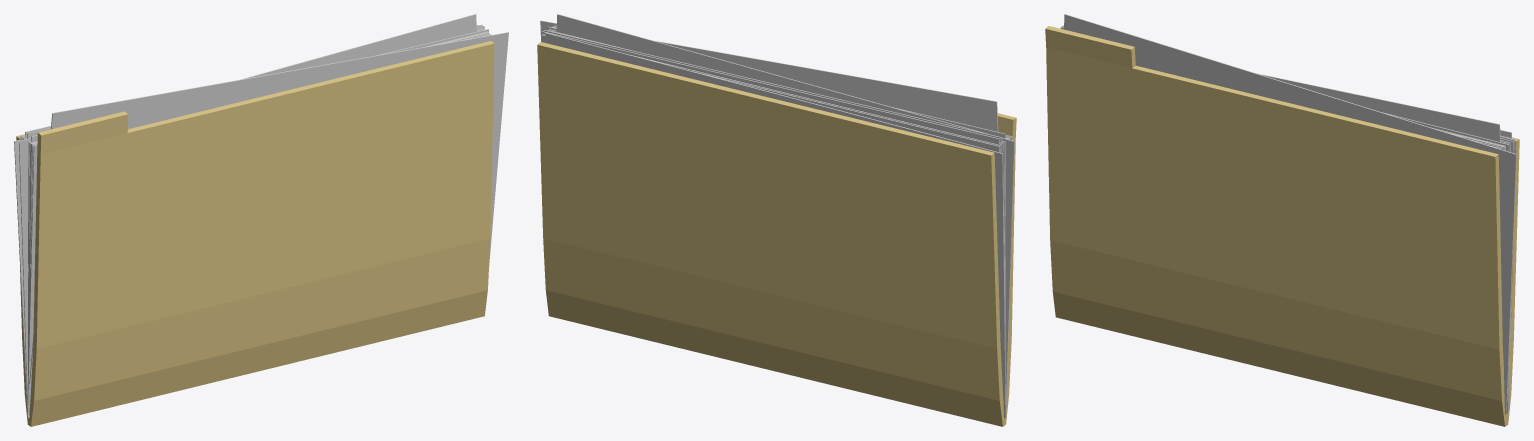
Rendered from Folder.fbx.
3 renders of one model, left to right at view 1: azimuth 30°, elevation 25°; view 2: azimuth 150°, elevation 25°; view 3: azimuth 330°, elevation 25°, orthographic.
Parts seen in each view (by area): view 1: Folder, Papers; view 2: Folder, Papers; view 3: Folder, Papers.
Part boxes in pixels (x1,y1,x2,y2): Folder: (16,41,494,426); Papers: (14,14,508,417); Folder: (537,42,1016,426); Papers: (540,14,1014,418); Folder: (1045,26,1519,426); Papers: (1060,14,1516,414).
Bounding box in the file's own units: 80.44 × 50.19 × 7.32.
